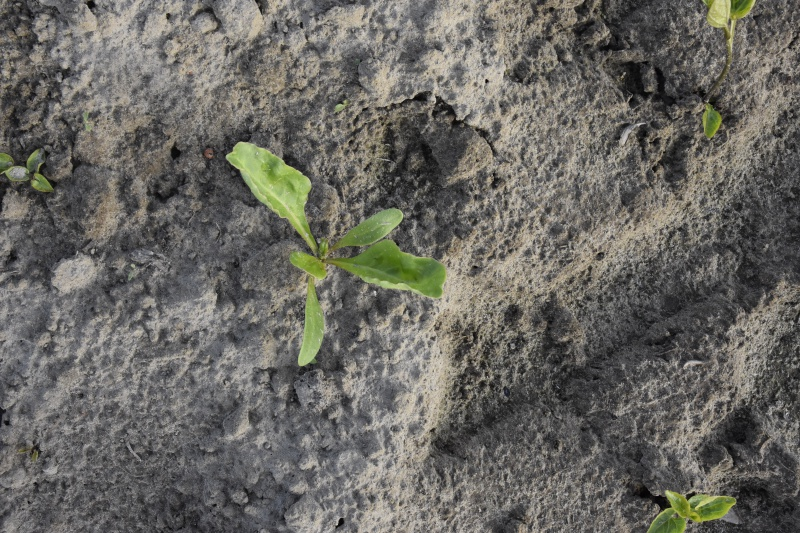field bindweed: (694, 1, 750, 142), (648, 486, 737, 533), (1, 147, 59, 207)
sugar beet: (230, 148, 450, 369)
